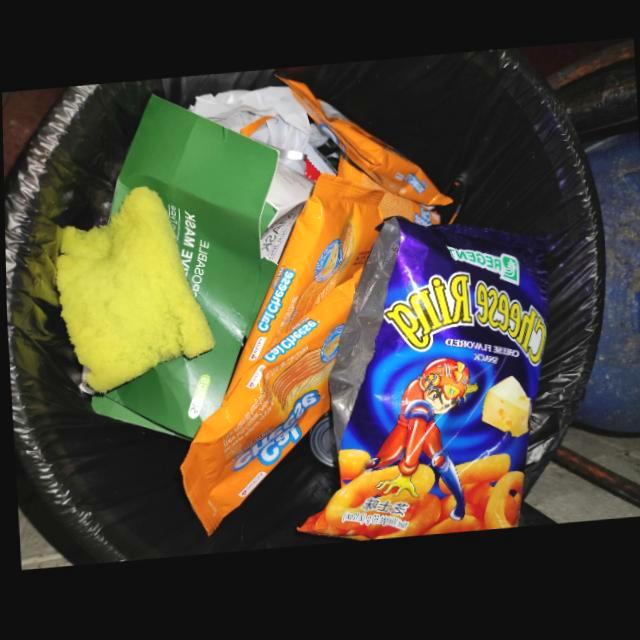aluminum: (306, 410, 336, 470)
cardboard: (88, 93, 313, 442)
food_wrapper: (295, 219, 547, 544), (177, 175, 384, 535), (275, 76, 453, 228)
